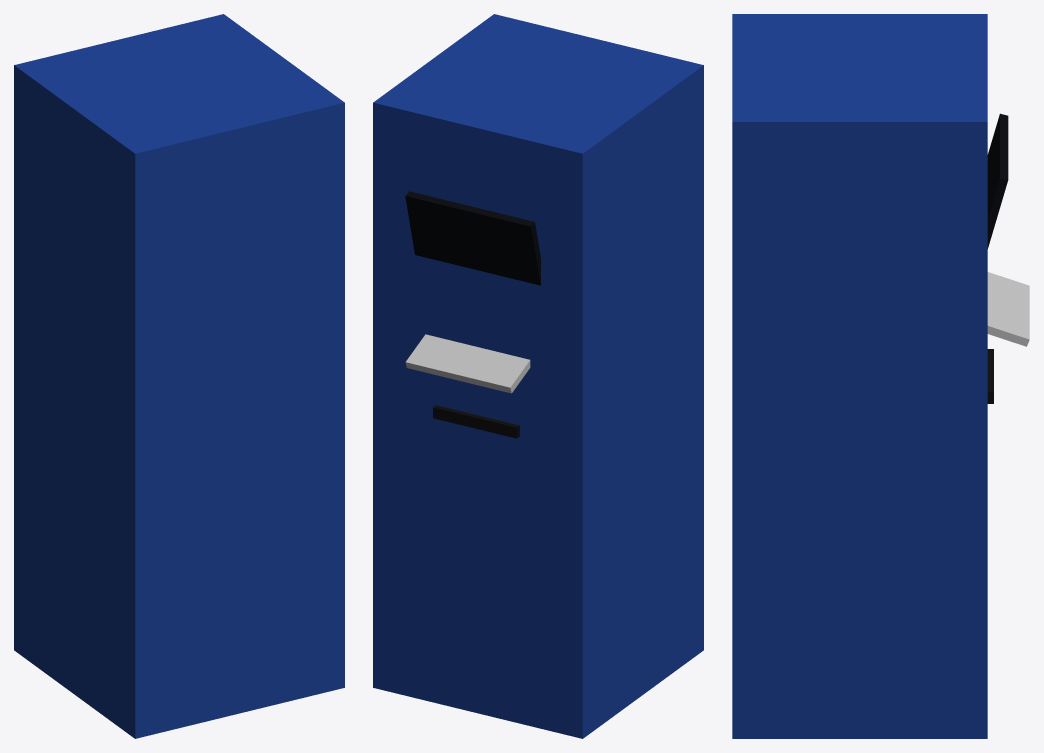
Rendered from station.rail.atm.glb.
3 renders of one model, left to right at view 1: azimuth 30°, elevation 25°; view 2: azimuth 150°, elevation 25°; view 3: azimuth 270°, elevation 25°, orthographic. The views are drawn at different scales.
Parts seen in each view (by area): view 1: main__plastic_blue; view 2: main__plastic_blue, main__screen, main__steel_stainless, main__plastic_black; view 3: main__plastic_blue, main__steel_stainless, main__screen.
Part boxes in pixels (x1,y1,x2,y2): main__plastic_blue: (14,14,344,738); main__plastic_blue: (373,14,703,738); main__screen: (405,191,540,285); main__steel_stainless: (405,334,530,393); main__plastic_black: (433,405,519,438); main__plastic_blue: (732,14,987,738); main__steel_stainless: (987,272,1029,346); main__screen: (987,113,1008,248).
Size of the model in its own units: 0.6 by 1.6 by 0.6992.
